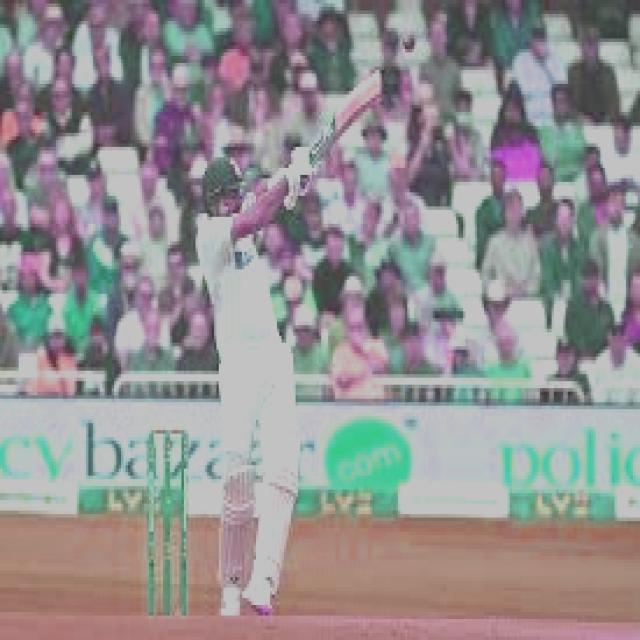toe: (376, 66, 383, 102)
